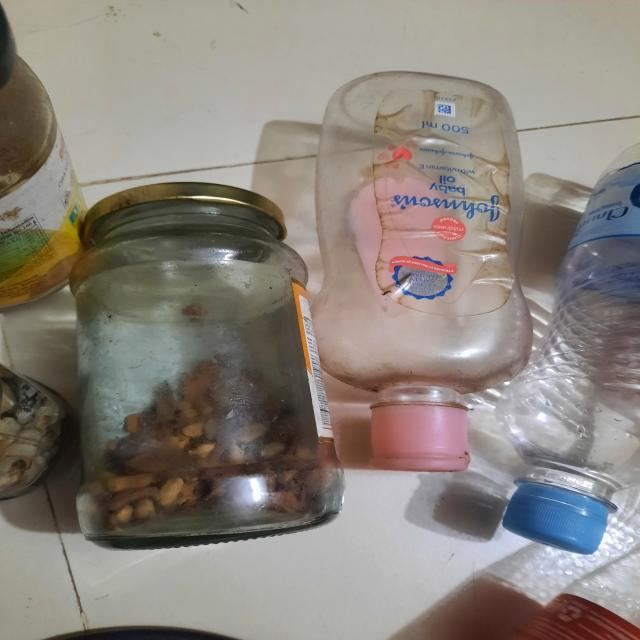Glass: (41, 192, 353, 565)
Plastics: (324, 53, 640, 605)
